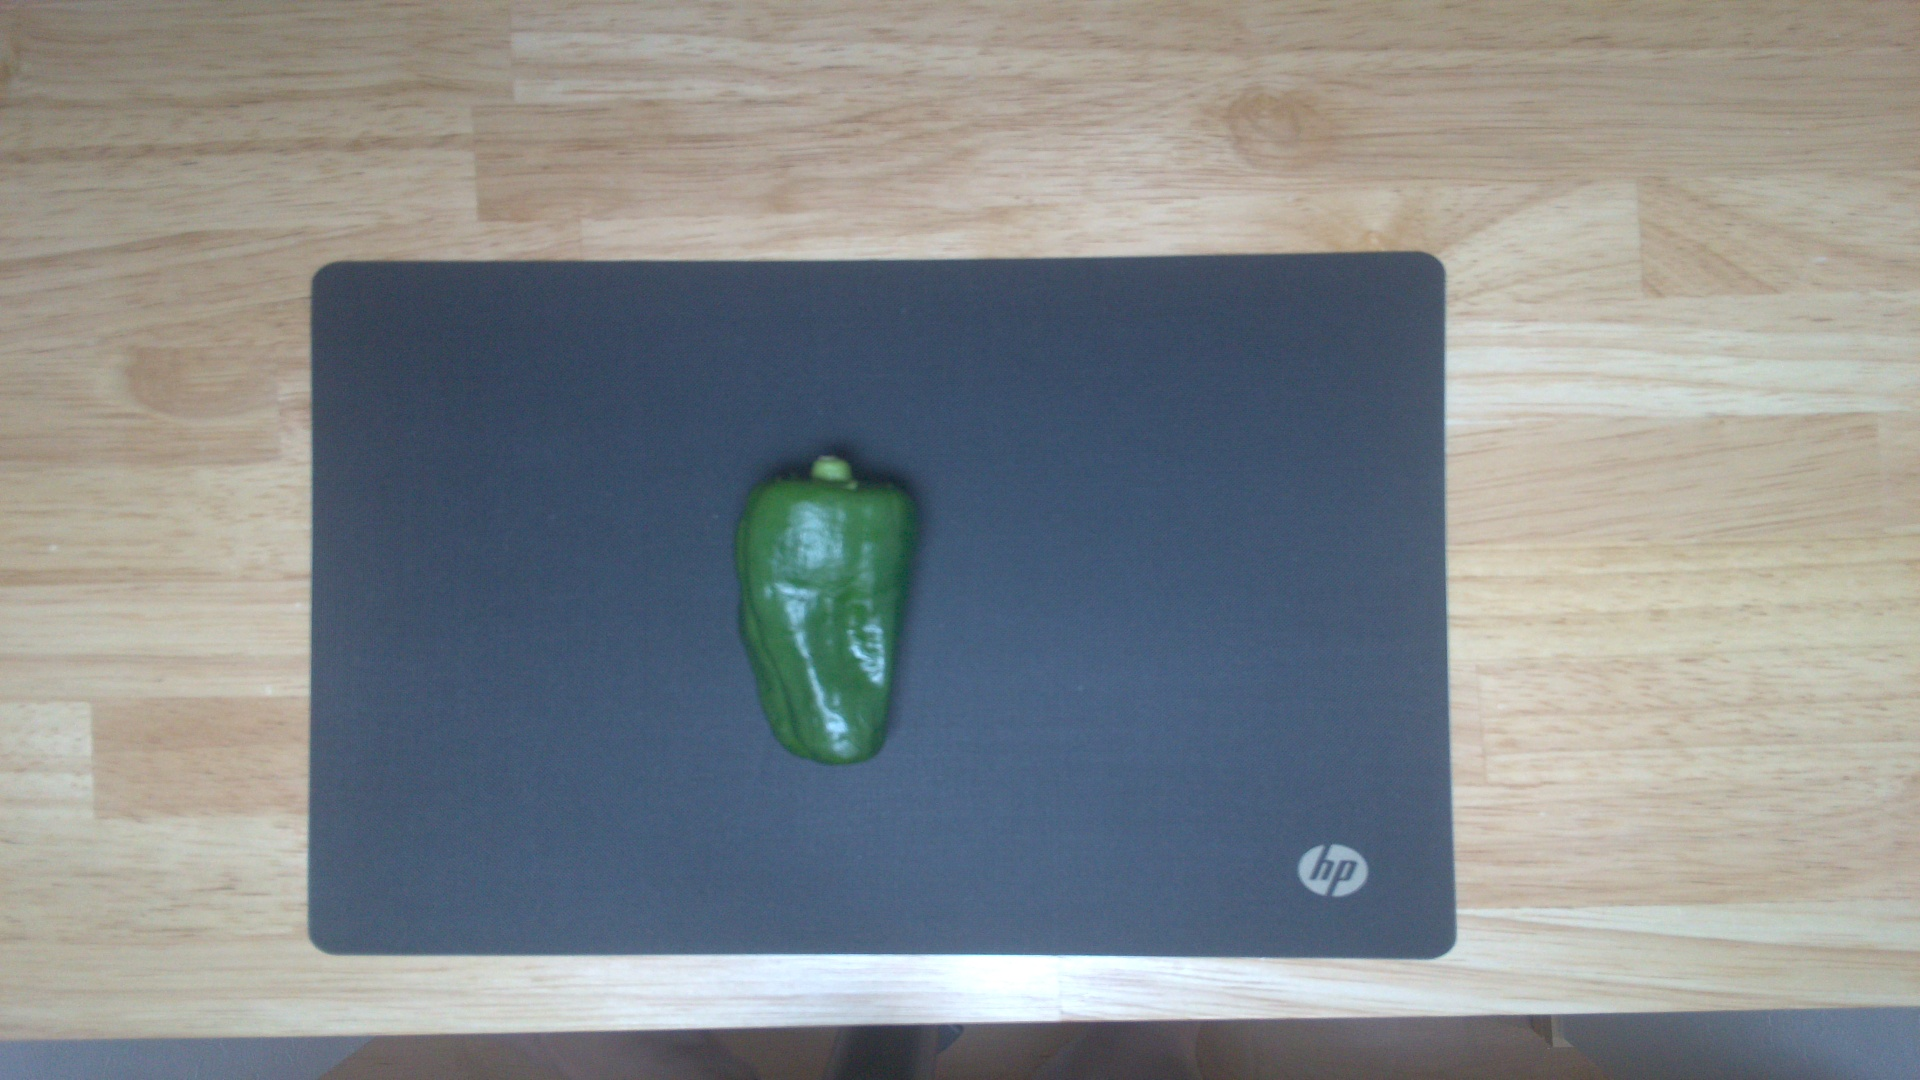Piman: (731, 458, 920, 769)
